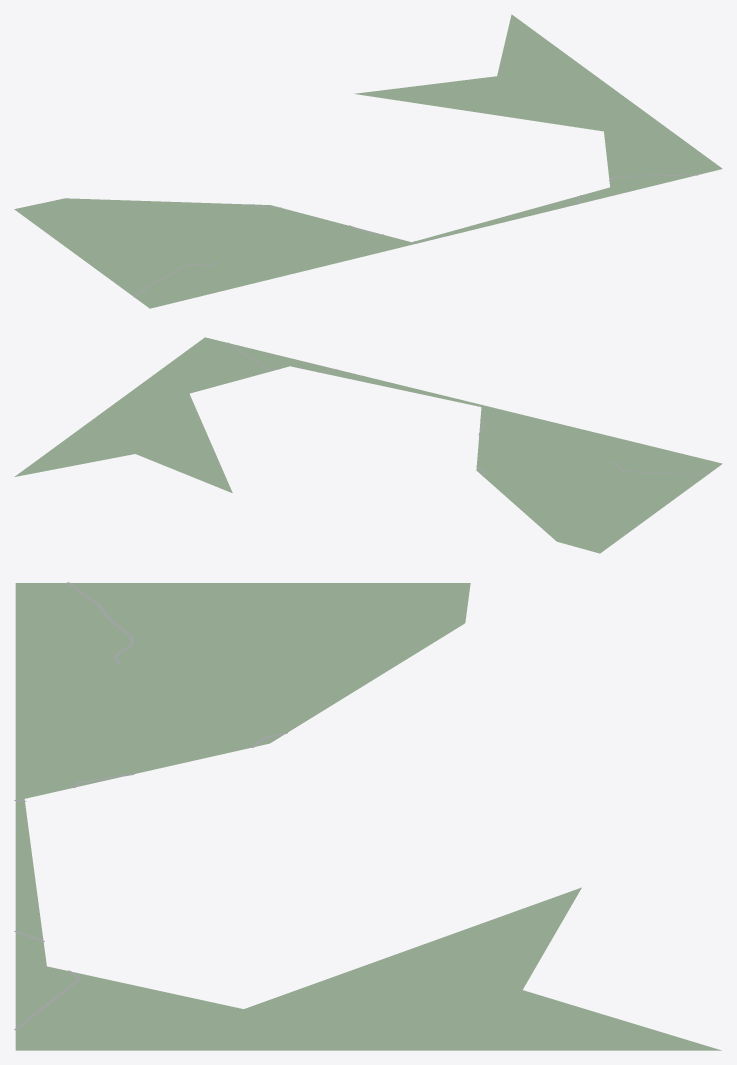
The model's file is -10_19-known-fine.glb.
The picture shows the model from 3 angles, top to bottom: view 1: azimuth 30°, elevation 25°; view 2: azimuth 150°, elevation 25°; view 3: azimuth 270°, elevation 25°; orthographic projection. The views are drawn at different scales.
Bounding box in the file's own units: 1001 × 0.1 × 640.
